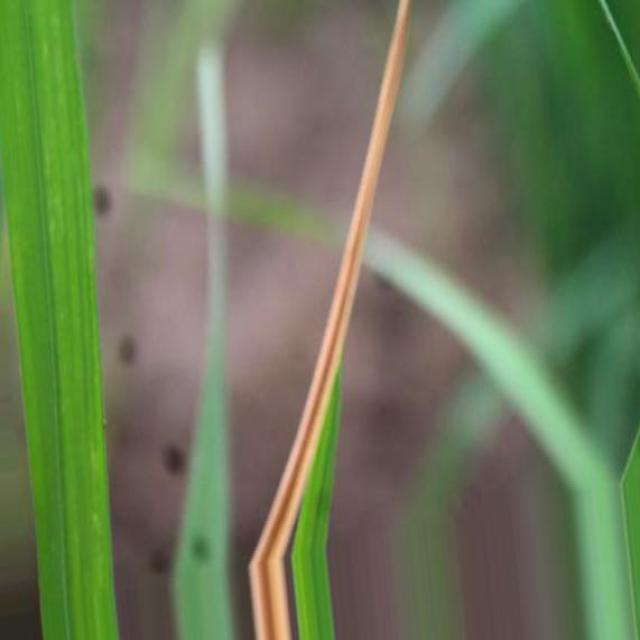Rice Tungro: (250, 0, 410, 639)
